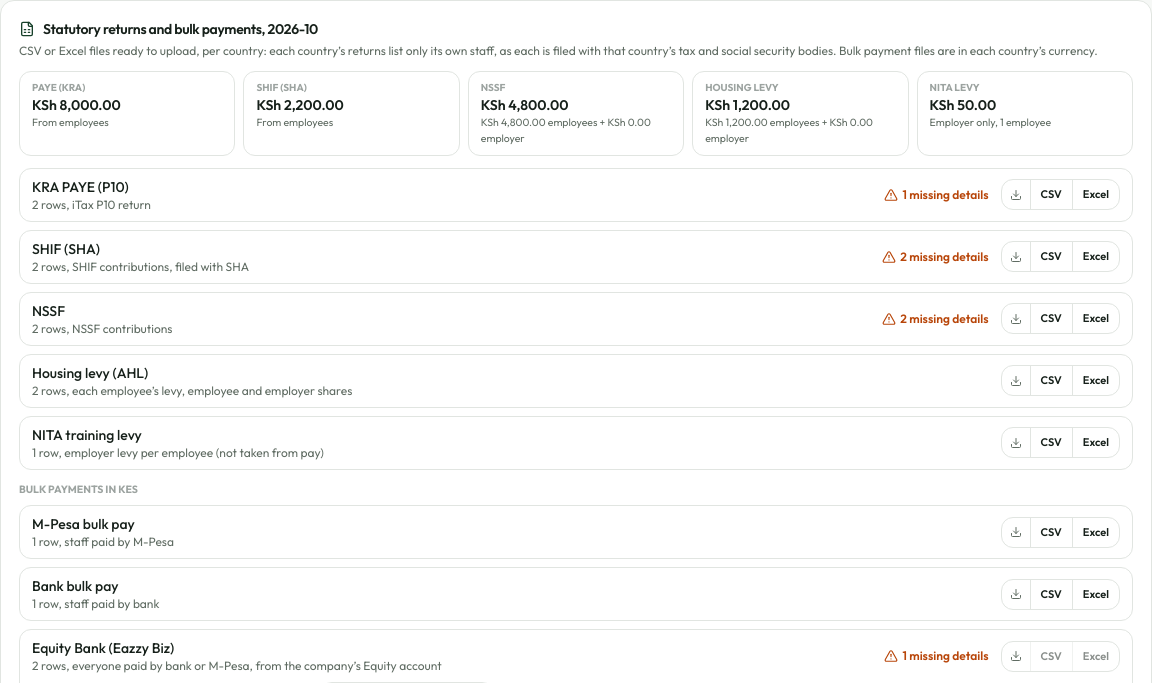
PayrollExportsPanel › shows who is missing what before the download
The width and height of the screenshot is (1152, 683).
Check: the text "KRA PAYE (P10)" is shown, box [32,178,129,196]
Step 1. Click the button "1 missing details" in the row of "iTax P10 return" → (937, 194), box [884,186,989,202]
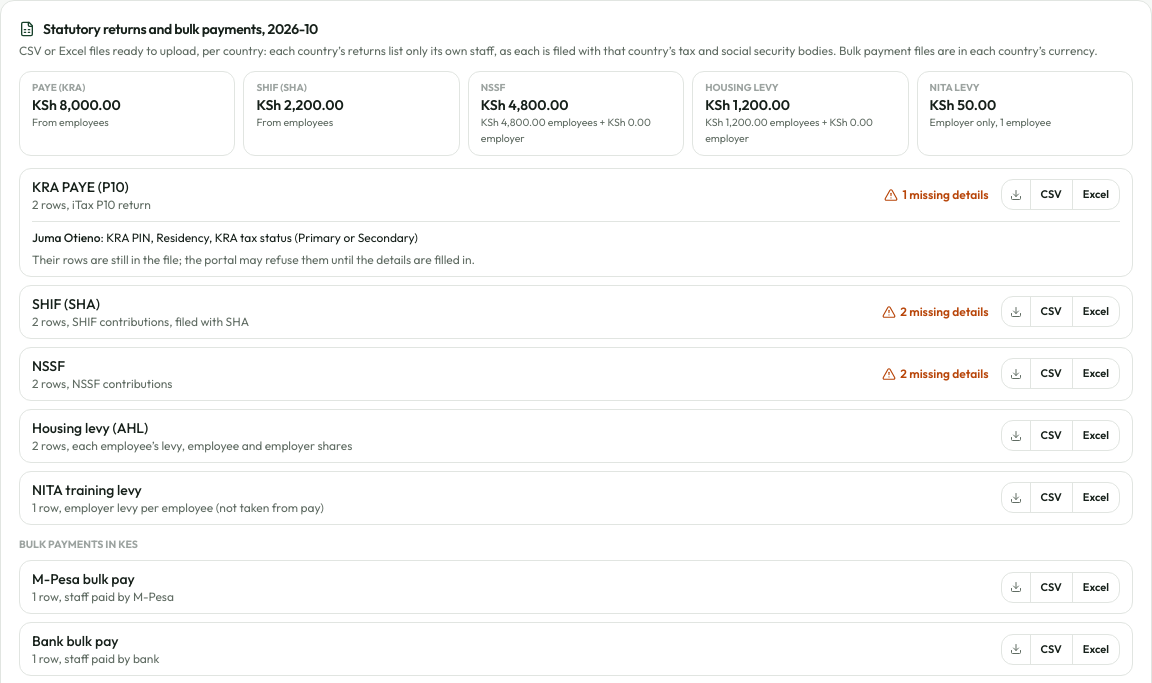
Check: the text "Juma Otieno" is shown, box [32,230,100,244]
Check: the list item "KRA PIN, Residency, KRA tax status (Primary or Secondary)" is shown, box [106,230,418,244]
